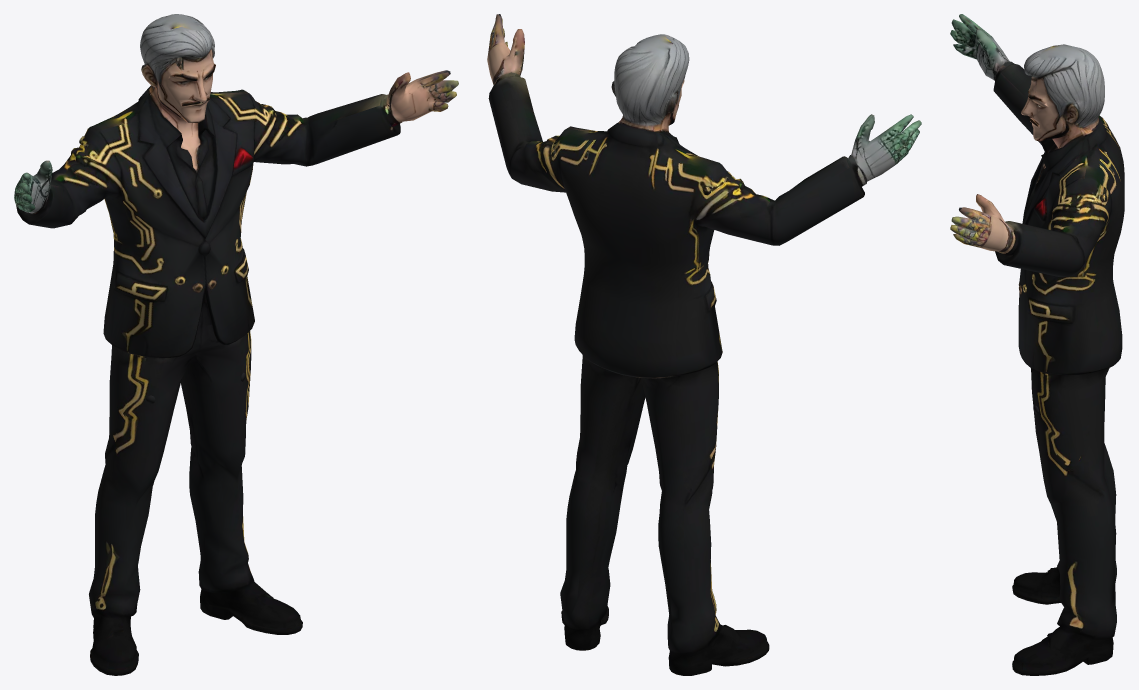
3 views of the same model, side by side, from view 1: azimuth 30°, elevation 25°; view 2: azimuth 150°, elevation 25°; view 3: azimuth 270°, elevation 25° (orthographic). The views are drawn at different scales.
Visible parts, largest first — view 1: material; view 2: material; view 3: material.
Part boxes in pixels (box(x1,y1,x2,y2)): material: box(14, 14, 458, 675); material: box(487, 14, 921, 675); material: box(950, 14, 1124, 675).
Bounding box in the file's own units: 1.4 × 1.9 × 0.5175.
1 material, 1 textured.
